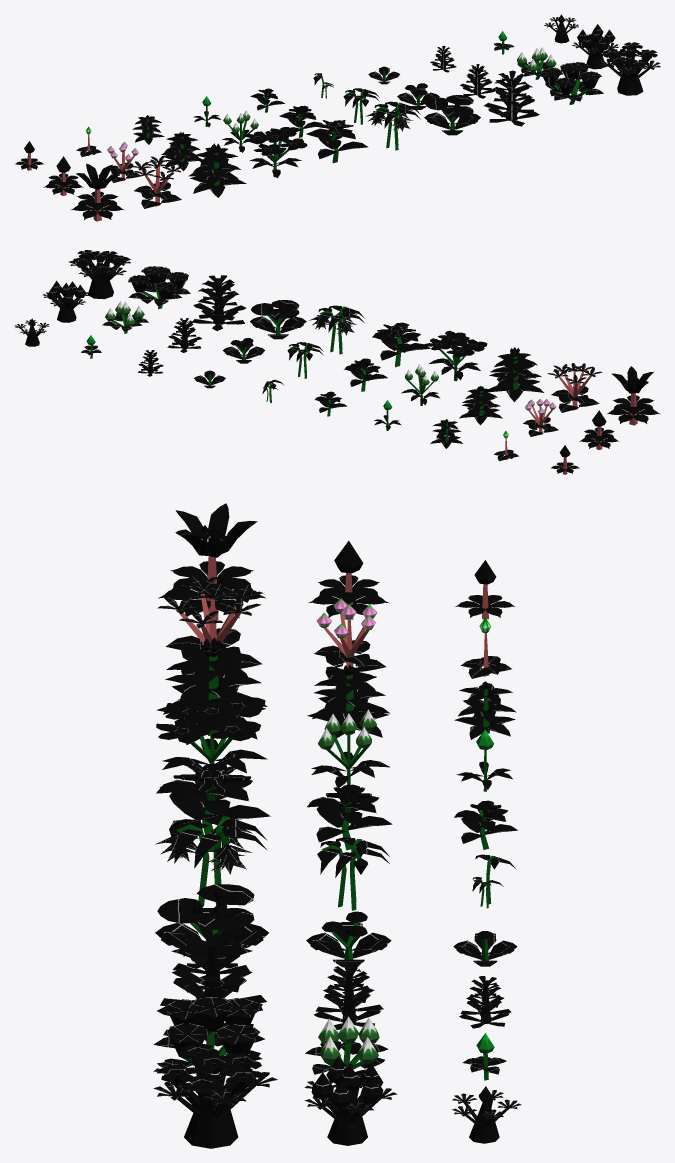
File: FlowersLvl4Exotic.fbx
3 views of the same model, one above another, from view 1: azimuth 30°, elevation 25°; view 2: azimuth 150°, elevation 25°; view 3: azimuth 270°, elevation 25° (orthographic). The views are drawn at different scales.
Visible parts, largest first — view 1: Adenium3, Gardenia3, Poinsettia3, Guzmania3, Plumeria3, Echeveria3, Calceolaria3, Cyclamen3, Pedilanthus3, Medinilla3, Adenium2, Poinsettia2 (+14 smaller); view 2: Gardenia3, Adenium3, Poinsettia3, Guzmania3, Echeveria3, Plumeria3, Calceolaria3, Cyclamen3, Pedilanthus3, Medinilla3, Adenium2, Poinsettia2 (+12 smaller); view 3: Adenium3, Plumeria3, Gardenia3, Echeveria3, Calceolaria3, Adenium2, Guzmania3, Pedilanthus3, Cyclamen3, Medinilla3, Poinsettia3, Poinsettia2 (+14 smaller).
Part boxes in pixels (x1,y1,x2,y2): Adenium3: [598, 42, 660, 95]; Gardenia3: [539, 62, 603, 104]; Poinsettia3: [188, 143, 246, 197]; Guzmania3: [484, 70, 539, 126]; Plumeria3: [244, 127, 307, 178]; Echeveria3: [70, 163, 123, 221]; Calceolaria3: [424, 95, 480, 135]; Cyclamen3: [130, 155, 183, 208]; Pedilanthus3: [306, 120, 368, 163]; Medinilla3: [365, 101, 420, 150]; Adenium2: [572, 24, 618, 69]; Poinsettia2: [161, 132, 202, 171]; Gardenia3: [128, 266, 190, 309]; Adenium3: [68, 250, 130, 299]; Poinsettia3: [489, 347, 543, 401]; Guzmania3: [192, 275, 246, 330]; Echeveria3: [607, 366, 660, 425]; Plumeria3: [424, 330, 487, 381]; Calceolaria3: [250, 300, 306, 339]; Cyclamen3: [547, 363, 602, 412]; Pedilanthus3: [372, 322, 430, 367]; Medinilla3: [309, 305, 364, 354]; Adenium2: [42, 280, 89, 322]; Poinsettia2: [459, 386, 502, 425]; Adenium3: [153, 1043, 277, 1148]; Plumeria3: [156, 693, 267, 786]; Gardenia3: [154, 996, 264, 1076]; Echeveria3: [158, 503, 265, 620]; Calceolaria3: [155, 884, 268, 963]; Adenium2: [304, 1056, 397, 1145]; Guzmania3: [157, 926, 266, 1027]; Pedilanthus3: [156, 763, 270, 850]; Cyclamen3: [157, 576, 263, 674]; Medinilla3: [155, 814, 267, 906]; Poinsettia3: [156, 637, 267, 744]; Poinsettia2: [307, 665, 389, 737].
Bounding box in the file's own units: 983 × 77.78 × 270.
